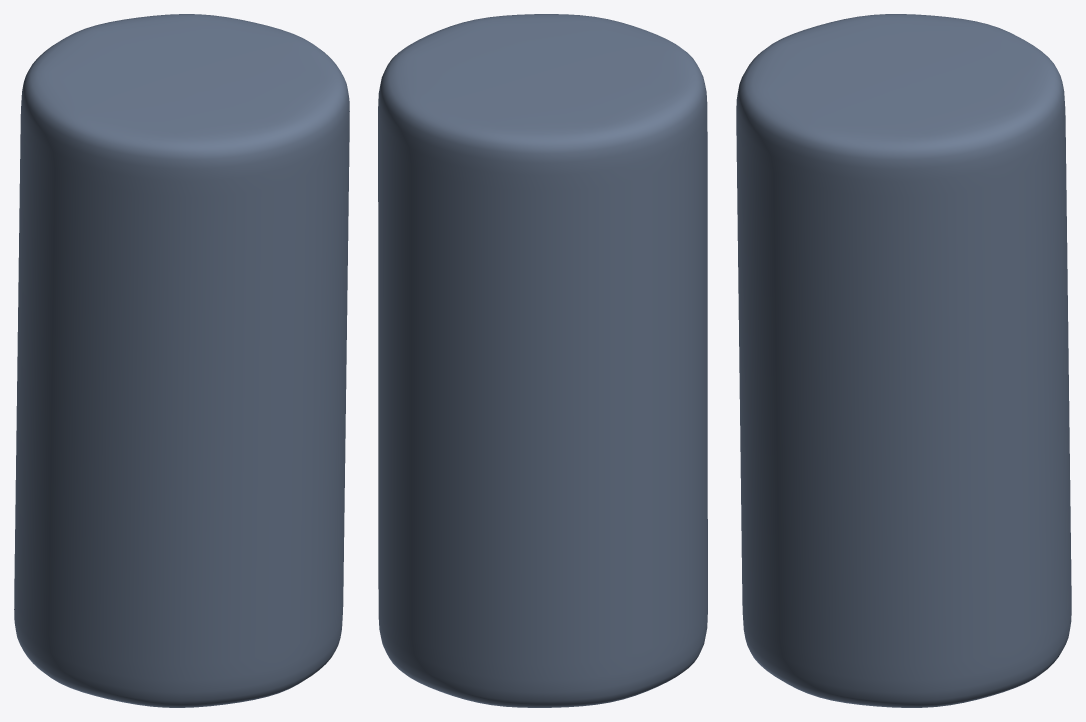
3 views of the same model, side by side, from view 1: azimuth 30°, elevation 25°; view 2: azimuth 150°, elevation 25°; view 3: azimuth 270°, elevation 25° (orthographic).
Visible parts, largest first — view 1: Cylinder.004; view 2: Cylinder.004; view 3: Cylinder.004.
Part boxes in pixels (<box>): Cylinder.004: <box>14,14,349,707</box>; Cylinder.004: <box>378,14,707,707</box>; Cylinder.004: <box>736,14,1071,707</box>.
Bounding box in the file's own units: 0.00664 × 0.0126 × 0.00668.
